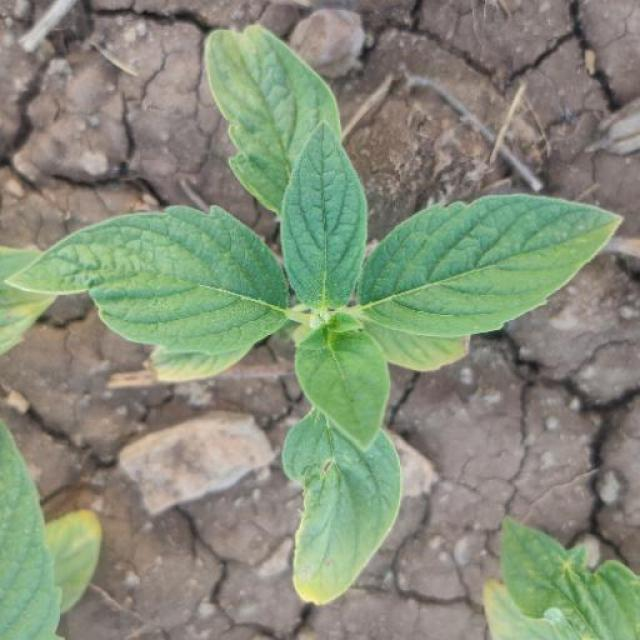crop: (48, 33, 616, 618)
